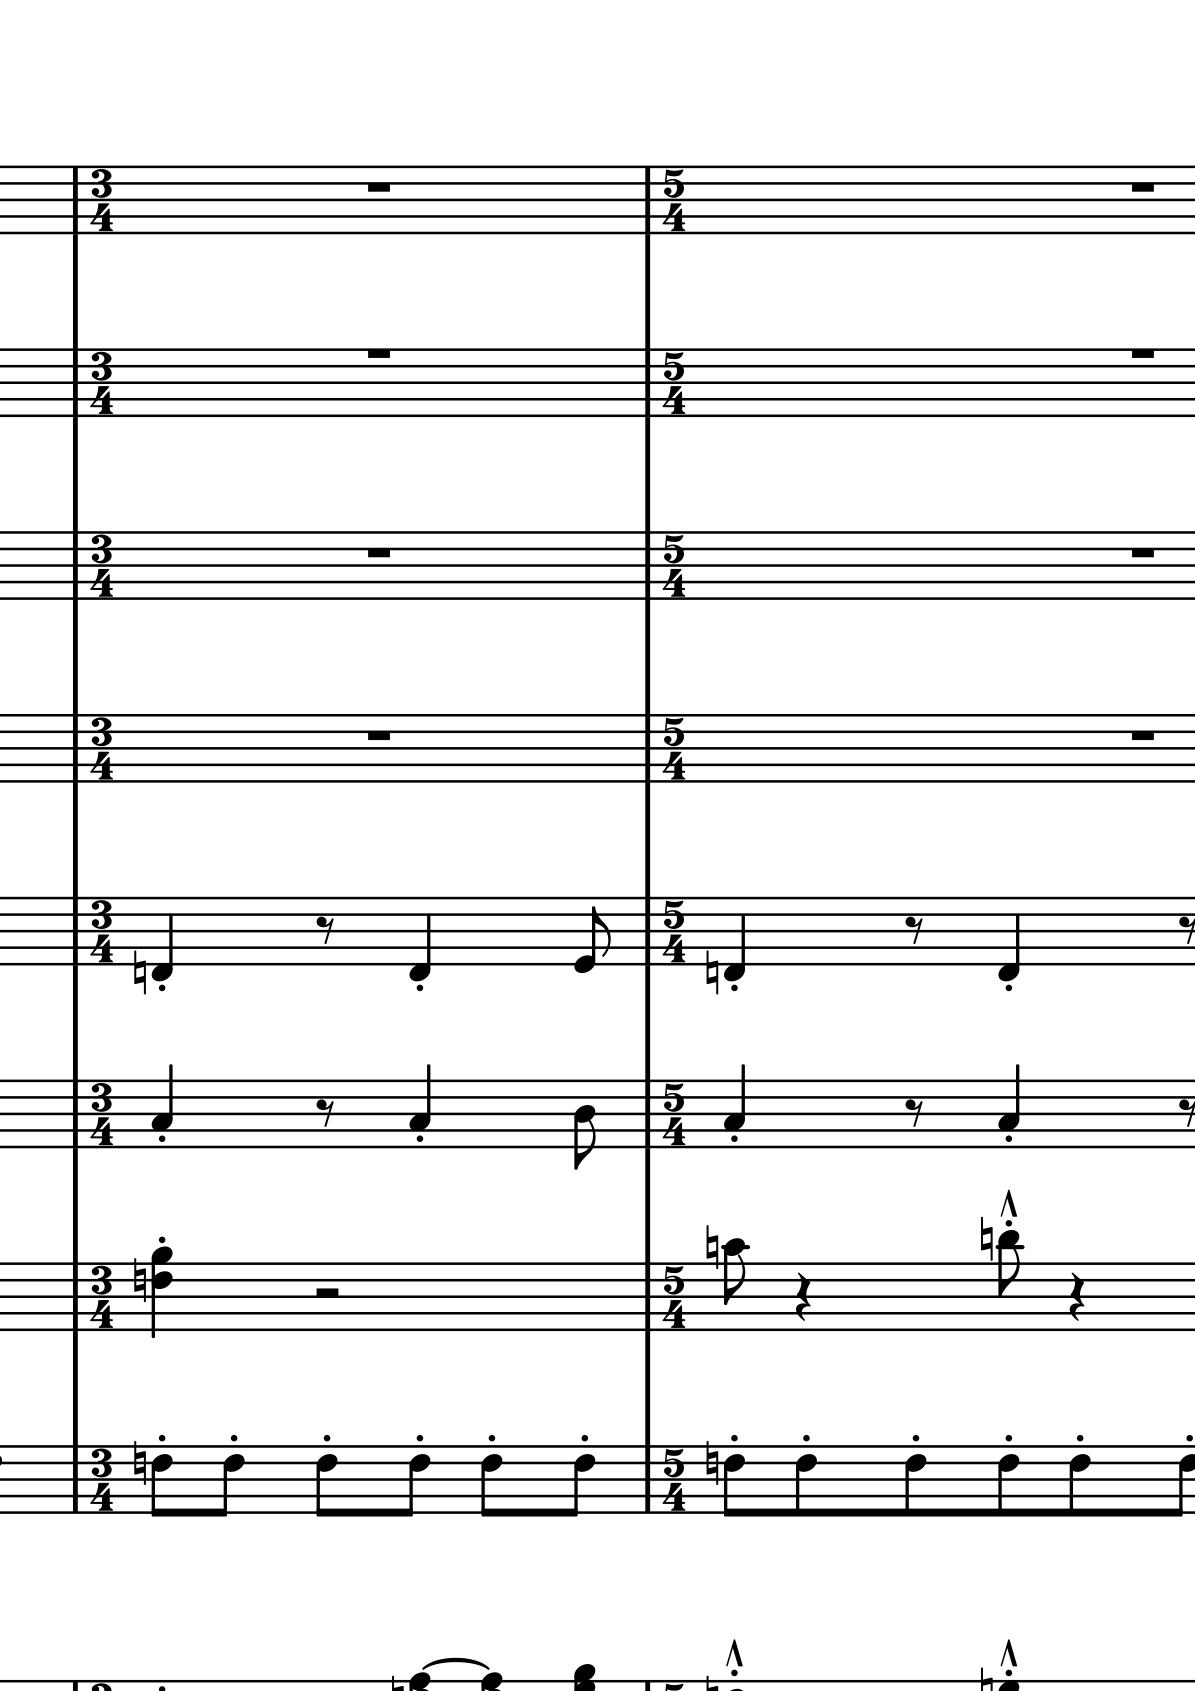3: (88, 530, 115, 566), (87, 165, 114, 200), (87, 714, 114, 749), (88, 348, 115, 381), (88, 897, 115, 930), (88, 1079, 114, 1113), (89, 1445, 115, 1479), (88, 1264, 114, 1295)
4: (660, 199, 689, 233), (89, 1114, 118, 1148), (88, 199, 116, 231), (88, 1480, 116, 1513), (661, 749, 688, 782), (89, 930, 116, 963), (661, 1478, 687, 1513), (661, 565, 687, 599), (89, 749, 115, 782), (661, 1113, 687, 1147), (661, 1297, 687, 1330), (662, 381, 687, 415), (91, 381, 115, 415), (662, 930, 687, 963), (91, 565, 114, 599), (91, 1297, 114, 1330)
4_-1: (996, 895, 1022, 983), (407, 895, 432, 983), (723, 895, 748, 983), (150, 896, 175, 983)
4_3: (149, 1063, 175, 1151), (722, 1063, 748, 1151), (996, 1063, 1022, 1151), (407, 1063, 432, 1151)
4_6_9: (150, 1245, 173, 1339)
5: (661, 895, 689, 928), (660, 165, 687, 200), (660, 533, 688, 565), (660, 715, 687, 749), (660, 1079, 687, 1113), (660, 1264, 687, 1297), (661, 348, 685, 381), (662, 1445, 685, 1478)
8_0: (572, 896, 612, 973)
8_10: (720, 1237, 749, 1333)
8_11: (995, 1229, 1024, 1332)
8_4: (572, 1078, 597, 1173)
8_6: (212, 1444, 246, 1519), (563, 1444, 596, 1519), (400, 1443, 429, 1519), (903, 1444, 929, 1519), (794, 1443, 819, 1519), (996, 1443, 1020, 1519), (149, 1445, 173, 1520), (479, 1444, 503, 1519), (722, 1444, 746, 1519), (314, 1444, 338, 1519), (1068, 1444, 1092, 1519)
Marcato_above: (995, 1638, 1022, 1672), (997, 1188, 1020, 1220)
Natural: (129, 1257, 147, 1304), (978, 1215, 995, 1264), (131, 949, 147, 995), (704, 1223, 719, 1272), (704, 1438, 719, 1487), (131, 1439, 146, 1487), (704, 949, 719, 995)
Rests1: (1126, 543, 1159, 562), (1126, 178, 1159, 197), (363, 178, 394, 197), (1126, 344, 1157, 362), (363, 544, 394, 562), (1126, 727, 1159, 743), (363, 345, 393, 363), (363, 727, 393, 743)
Rests2: (310, 1284, 343, 1303)
Rests4: (1064, 1271, 1089, 1323), (791, 1270, 815, 1324)
Rests8: (313, 914, 336, 948), (901, 914, 925, 946), (313, 1098, 336, 1129), (903, 1098, 925, 1129), (1176, 913, 1195, 948), (1176, 1096, 1195, 1130)
Single_barline: (63, 346, 85, 418), (63, 714, 85, 783), (63, 1262, 85, 1332), (65, 530, 85, 601), (638, 165, 658, 235), (638, 348, 658, 418), (638, 531, 658, 600), (65, 1079, 85, 1148), (635, 897, 656, 964), (638, 714, 657, 783), (638, 1262, 657, 1332), (65, 165, 84, 234), (65, 896, 84, 964), (638, 1079, 657, 1148), (65, 1445, 84, 1514), (638, 1445, 657, 1510)
Slur: (424, 1655, 491, 1674)
TimeSig: (87, 530, 116, 600), (660, 714, 689, 783), (87, 1079, 116, 1149), (661, 1079, 691, 1149), (87, 1262, 116, 1332), (660, 1262, 689, 1332), (660, 1445, 689, 1515), (660, 897, 689, 966), (87, 1445, 116, 1514), (661, 165, 689, 235), (88, 348, 116, 418), (661, 531, 689, 601), (88, 714, 116, 783), (88, 165, 116, 234), (88, 896, 116, 964), (661, 348, 688, 418)
